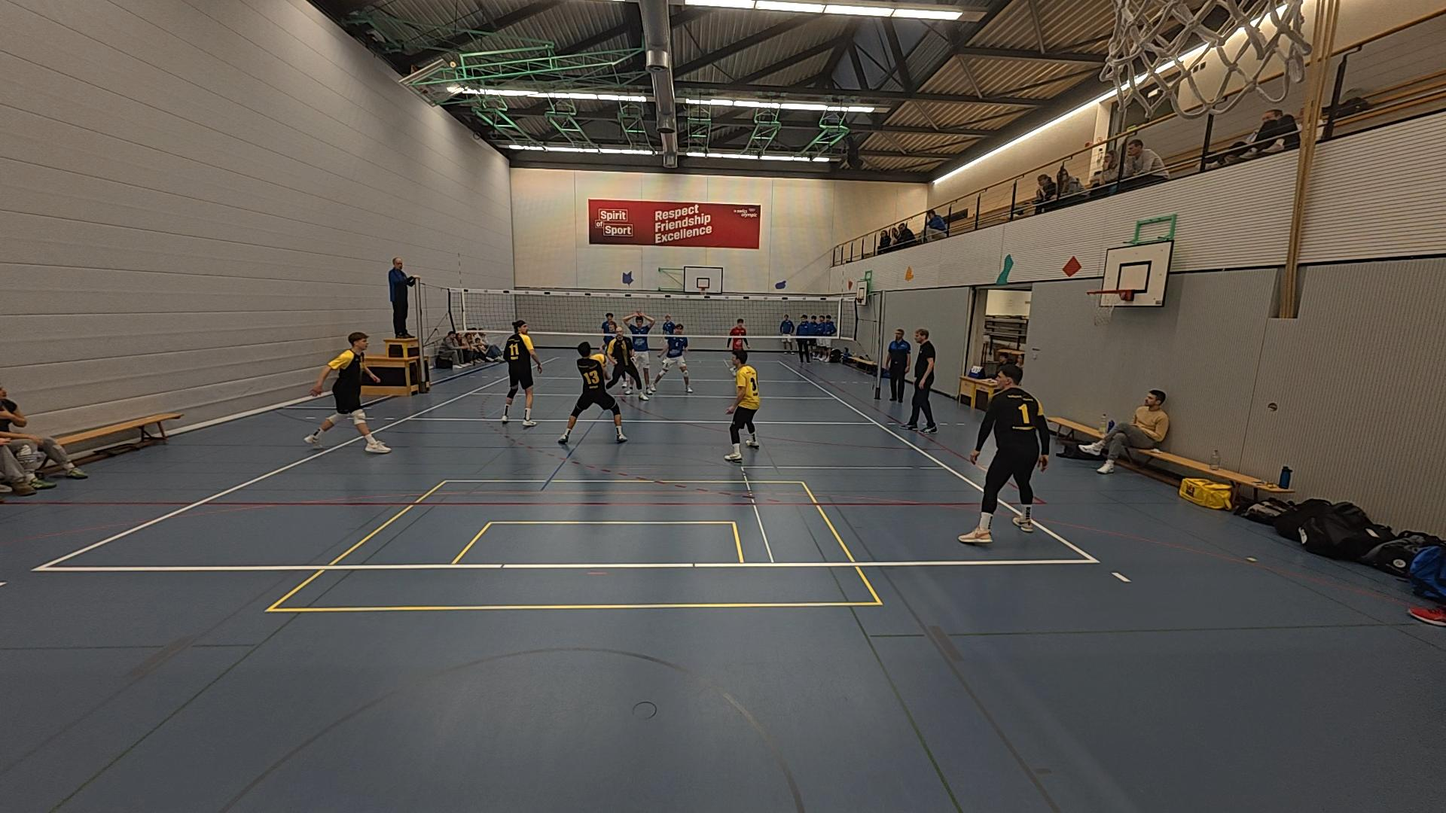ricezione: (556, 339, 632, 446)
